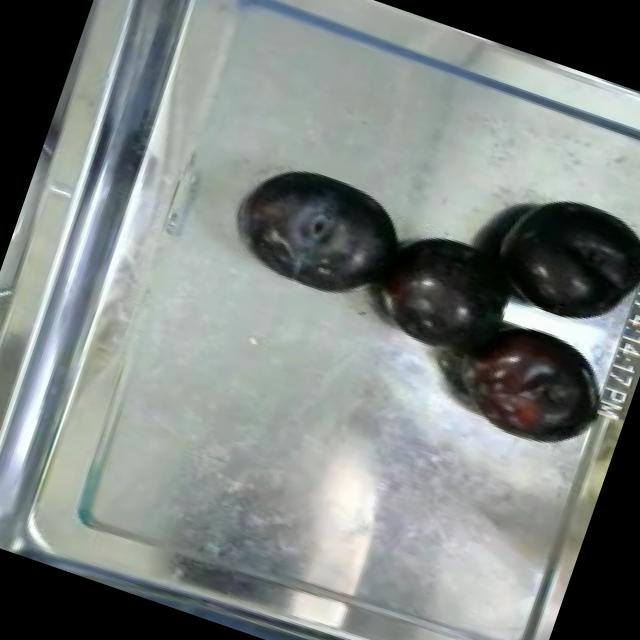Fruit: (218, 144, 424, 320), (430, 298, 618, 468), (352, 211, 537, 375), (471, 172, 640, 345)
